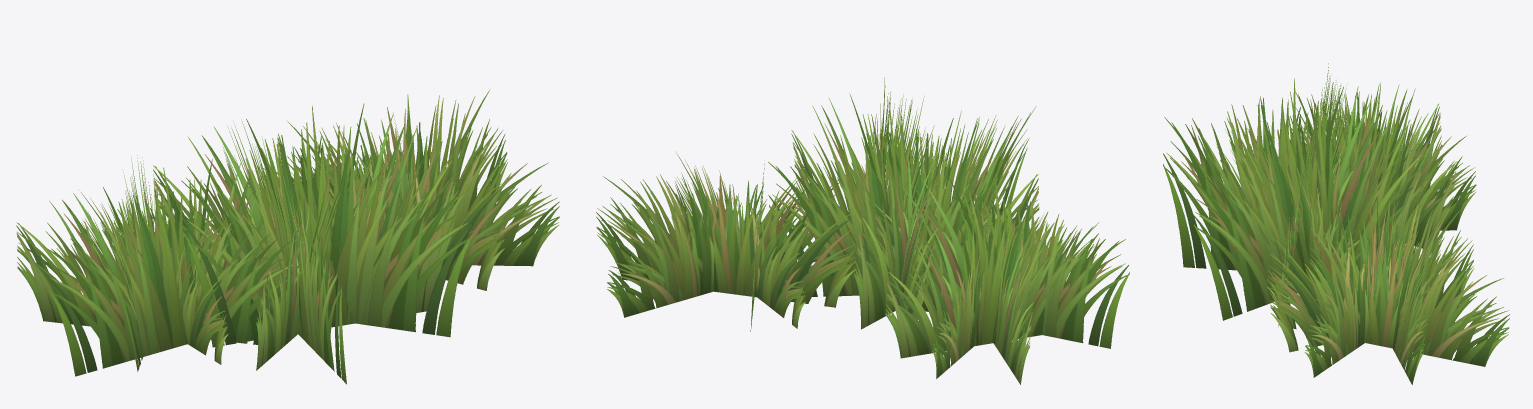
The model's file is Grass_A.fbx.
3 renders of one model, left to right at view 1: azimuth 30°, elevation 25°; view 2: azimuth 150°, elevation 25°; view 3: azimuth 270°, elevation 25°, orthographic. The views are drawn at different scales.
Visible parts, largest first — view 1: Grass_A; view 2: Grass_A; view 3: Grass_A.
Boxes of the visible parts, box(x1,y1,x2,y2) form: Grass_A: box(16, 90, 559, 384); Grass_A: box(596, 77, 1129, 384); Grass_A: box(1163, 63, 1509, 384).
Size of the model in its own units: 1.07 by 0.4527 by 0.7349.
Materials: 1 (1 with a texture image).
